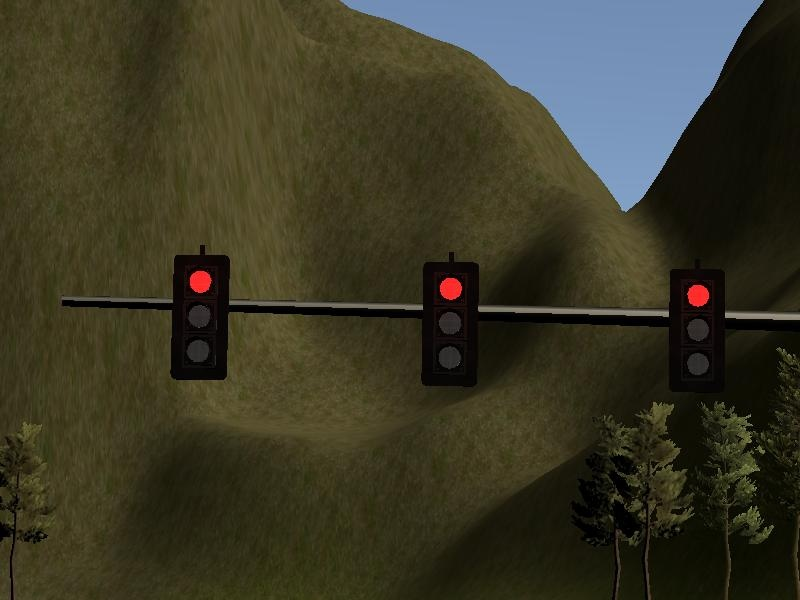red: (660, 262, 733, 400), (415, 256, 484, 393), (166, 246, 233, 387)
